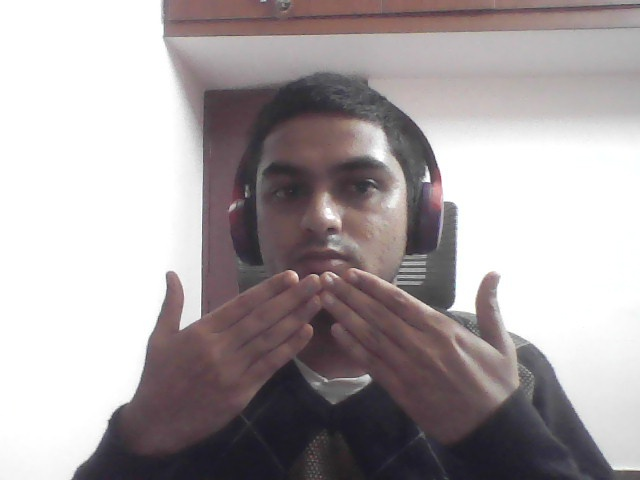Thank You: (108, 249, 545, 448)
